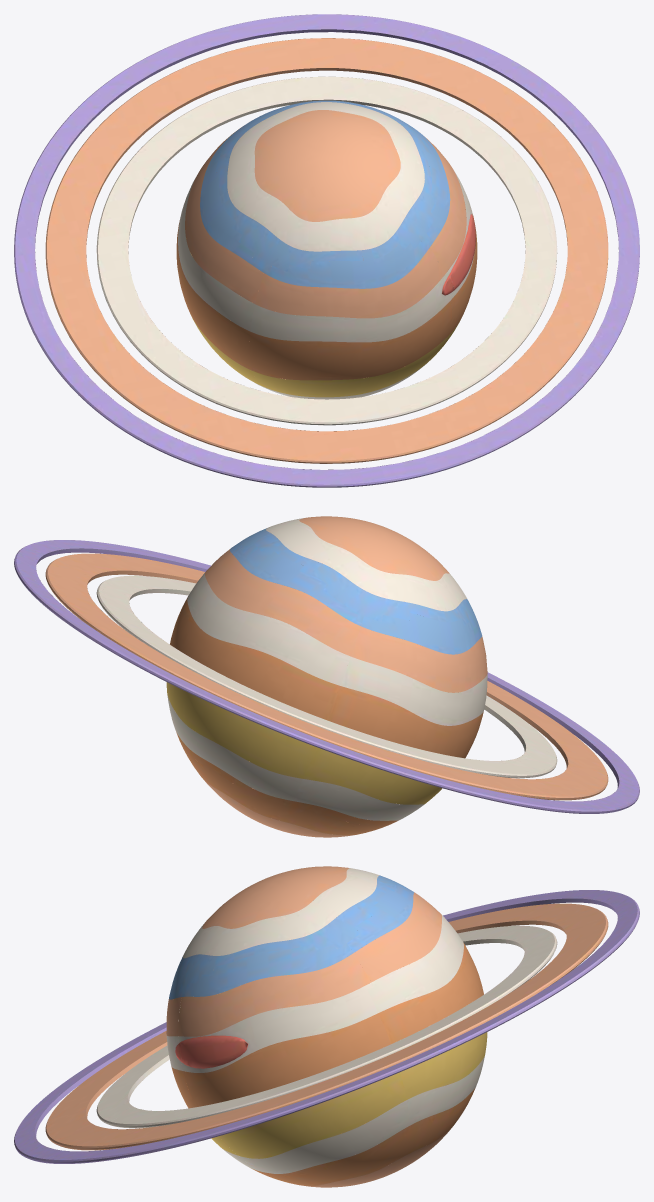
Rendered from planeta_anillos.glb.
The picture shows the model from 3 angles, top to bottom: view 1: azimuth 30°, elevation 25°; view 2: azimuth 150°, elevation 25°; view 3: azimuth 270°, elevation 25°; orthographic projection. The views are drawn at different scales.
Visible parts, largest first — view 1: ringed-planet_body; view 2: ringed-planet_body; view 3: ringed-planet_body.
Boxes of the visible parts, <box> form: ringed-planet_body: <box>14,14,639,487</box>; ringed-planet_body: <box>14,516,639,837</box>; ringed-planet_body: <box>14,866,639,1187</box>.
Bounding box in the file's own units: 4.08 × 2 × 3.9.
1 material, 1 textured.
